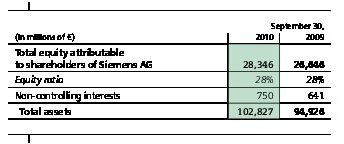table: (0, 0, 344, 144)
